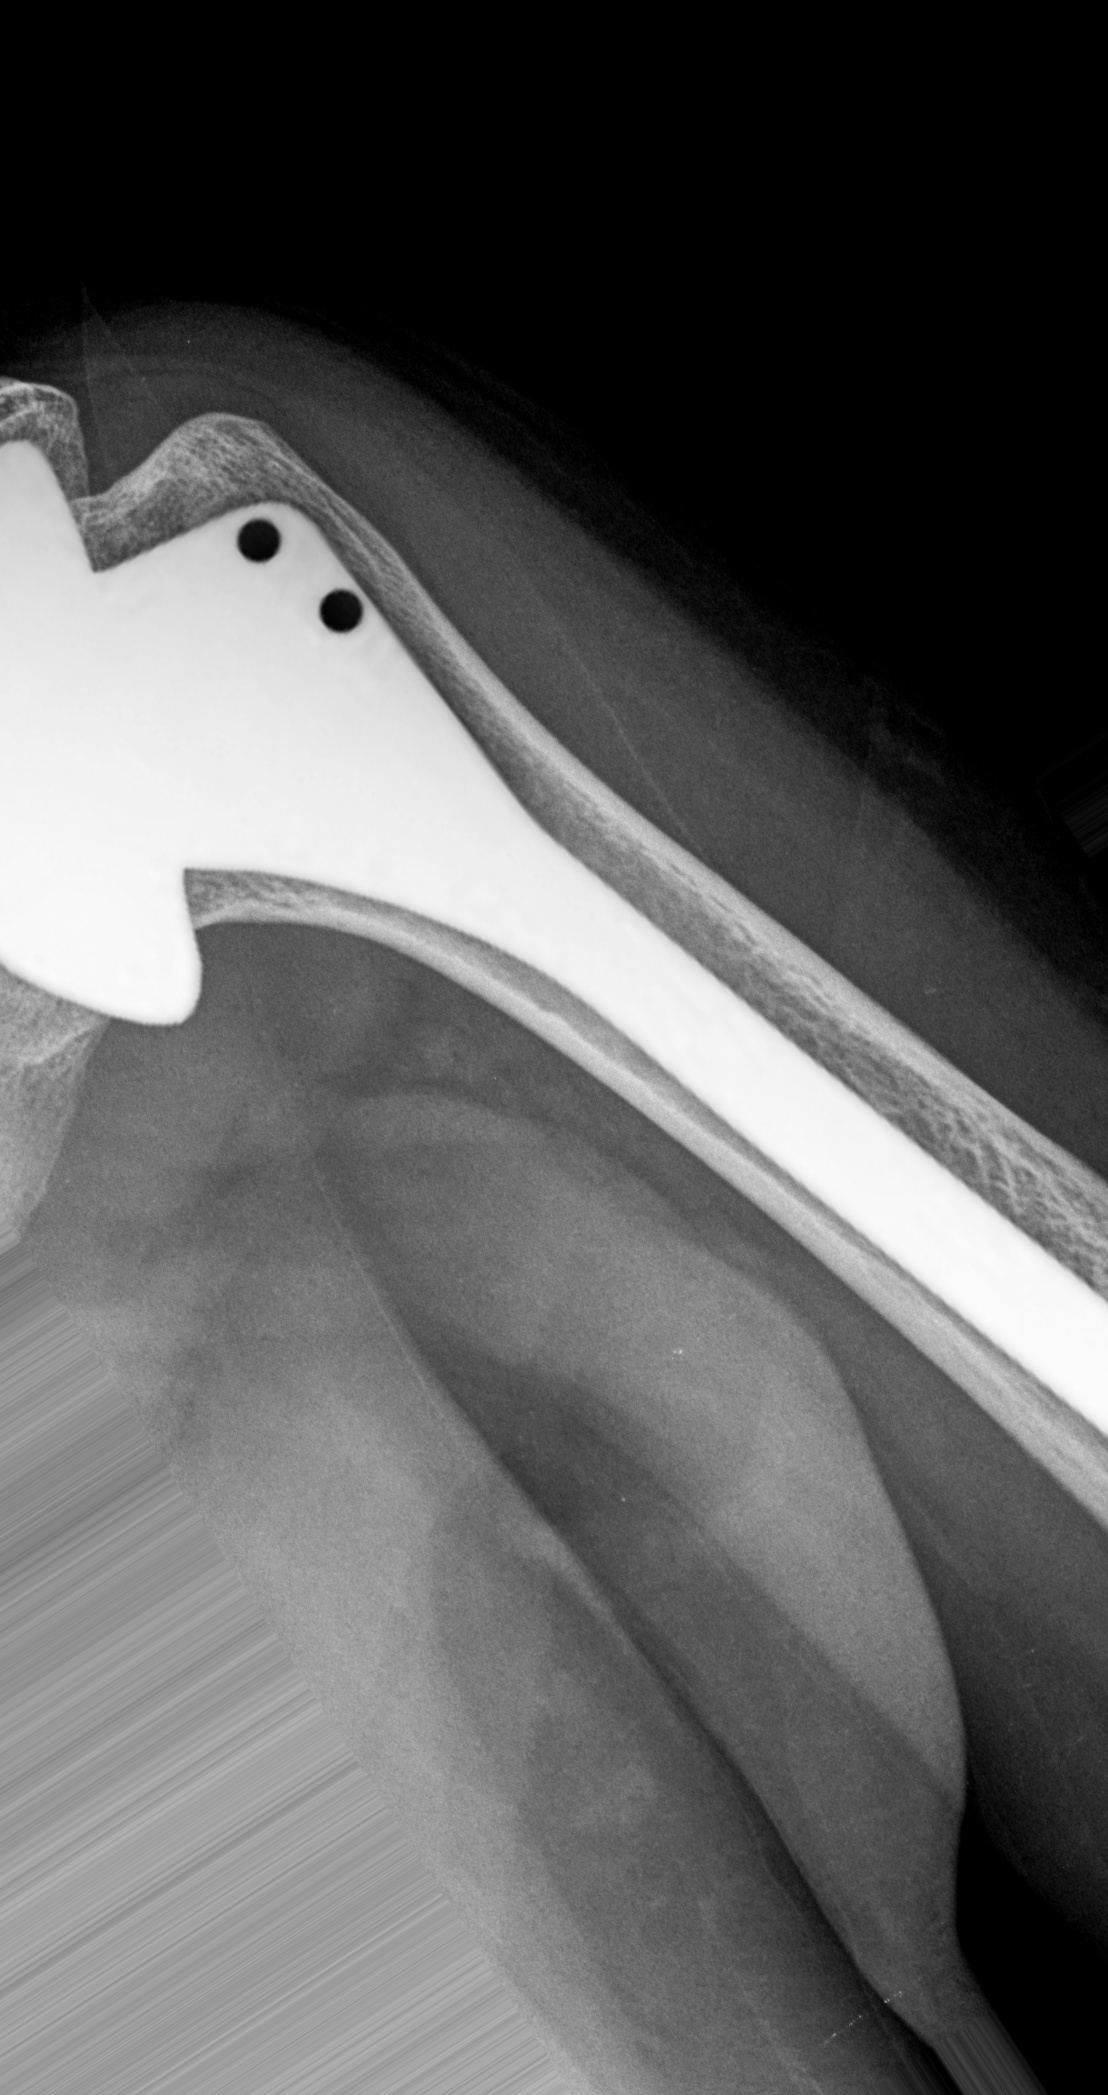Shoulder - Aequalis - Tornier: (1, 425, 483, 1047)
